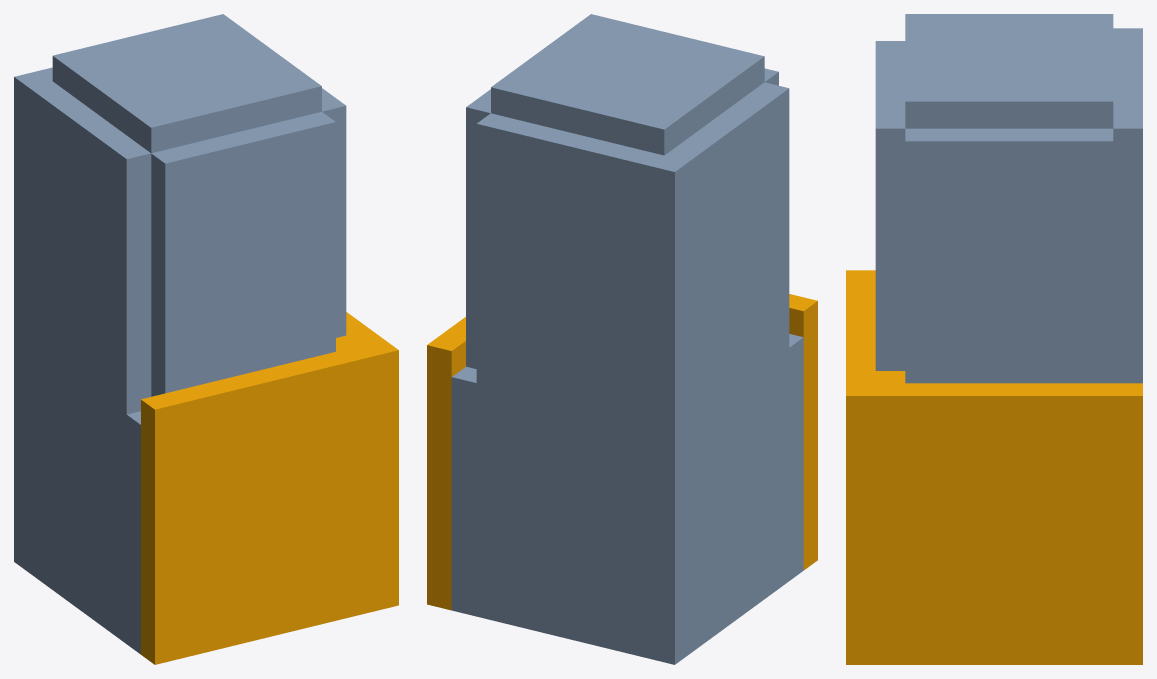
File: wall_2.obj
The picture shows the model from 3 angles, left to right: view 1: azimuth 30°, elevation 25°; view 2: azimuth 150°, elevation 25°; view 3: azimuth 270°, elevation 25°; orthographic projection. The views are drawn at different scales.
Bounding box in the file's own units: 10 × 20 × 10.
1 material, 1 textured.
